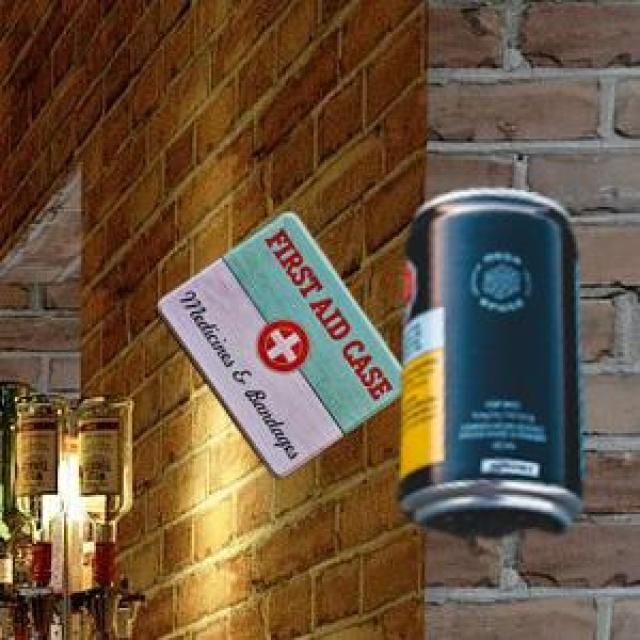Can: (155, 210, 400, 475), (396, 185, 581, 534)
